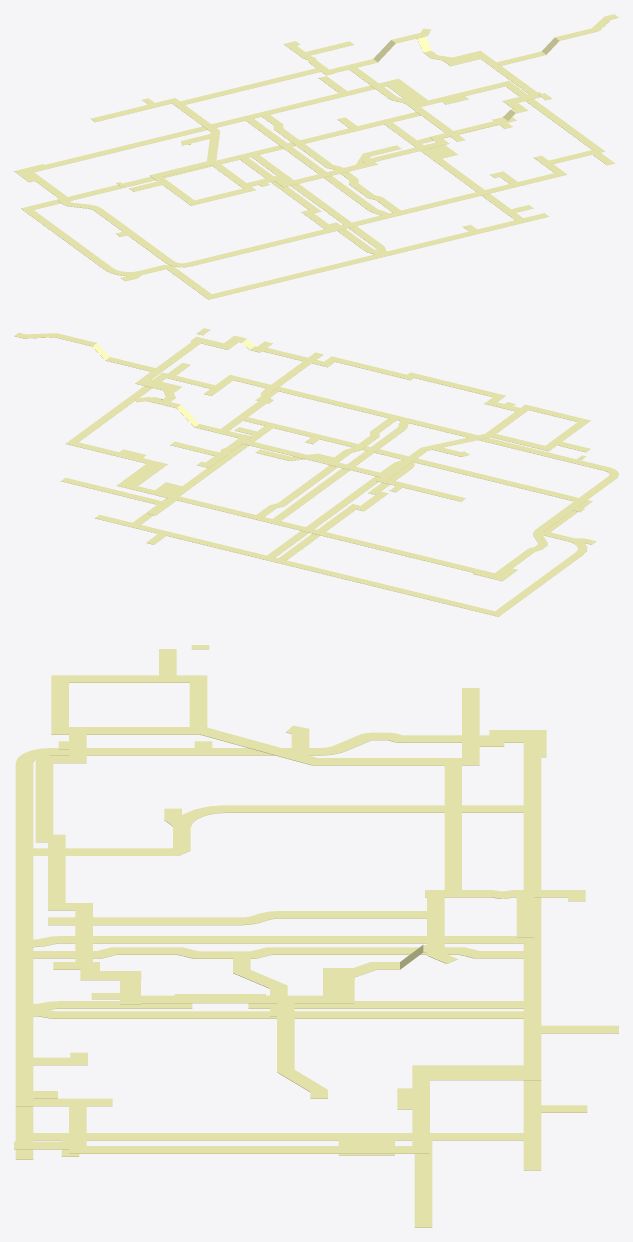
Rendered from HULDRA-PATHWAYS.gltf.
The picture shows the model from 3 angles, top to bottom: view 1: azimuth 30°, elevation 25°; view 2: azimuth 150°, elevation 25°; view 3: azimuth 270°, elevation 25°; orthographic projection. The views are drawn at different scales.
Visible parts, largest first — view 1: BOX_25_of_SUBSTRUCTURE_/ESCAPE-MEZZ/FLOOR_Mesh.45791, BOX_27_of_SUBSTRUCTURE_/ESCAPE-CELLAR/FLOOR_Mesh.45761, BOX_21_of_SUBSTRUCTURE_/ESCAPE-CELLAR/FLOOR_Mesh.45751, BOX_24_of_SUBSTRUCTURE_/ESCAPE-MEZZ/FLOOR_Mesh.45790, BOX_1_of_SUBSTRUCTURE_/ESCAPE-MEZZ/FLOOR_Mesh.45762, BOX_8_of_SUBSTRUCTURE_/ESCAPE-MEZZ/FLOOR_Mesh.45769, BOX_7_of_SUBSTRUCTURE_/ESCAPE-MEZZ/FLOOR_Mesh.45768, BOX_9_of_SUBSTRUCTURE_/ESCAPE-CELLAR/FLOOR_Mesh.45738, BOX_19_of_SUBSTRUCTURE_/ESCAPE-CELLAR/FLOOR_Mesh.45749, BOX_7_of_SUBSTRUCTURE_/ESCAPE-CELLAR/FLOOR_Mesh.45736, BOX_1_of_SUBSTRUCTURE_/ESCAPE-WEATH/FLOOR_Mesh.45807, BOX_14_of_SUBSTRUCTURE_/ESCAPE-MEZZ/FLOOR_Mesh.45775 (+11 smaller); view 2: BOX_25_of_SUBSTRUCTURE_/ESCAPE-MEZZ/FLOOR_Mesh.45791, BOX_27_of_SUBSTRUCTURE_/ESCAPE-CELLAR/FLOOR_Mesh.45761, BOX_1_of_SUBSTRUCTURE_/ESCAPE-MEZZ/FLOOR_Mesh.45762, BOX_21_of_SUBSTRUCTURE_/ESCAPE-CELLAR/FLOOR_Mesh.45751, BOX_1_of_SUBSTRUCTURE_/ESCAPE-CELLAR/FLOOR_Mesh.45730, BOX_24_of_SUBSTRUCTURE_/ESCAPE-MEZZ/FLOOR_Mesh.45790, BOX_7_of_SUBSTRUCTURE_/ESCAPE-MEZZ/FLOOR_Mesh.45768, BOX_8_of_SUBSTRUCTURE_/ESCAPE-MEZZ/FLOOR_Mesh.45769, BOX_9_of_SUBSTRUCTURE_/ESCAPE-CELLAR/FLOOR_Mesh.45738, BOX_1_of_SUBSTRUCTURE_/ESCAPE-WEATH/FLOOR_Mesh.45807, BOX_7_of_SUBSTRUCTURE_/ESCAPE-CELLAR/FLOOR_Mesh.45736, BOX_14_of_SUBSTRUCTURE_/ESCAPE-MEZZ/FLOOR_Mesh.45775 (+12 smaller); view 3: BOX_27_of_SUBSTRUCTURE_/ESCAPE-CELLAR/FLOOR_Mesh.45761, BOX_25_of_SUBSTRUCTURE_/ESCAPE-MEZZ/FLOOR_Mesh.45791, BOX_7_of_SUBSTRUCTURE_/ESCAPE-MEZZ/FLOOR_Mesh.45768, BOX_24_of_SUBSTRUCTURE_/ESCAPE-MEZZ/FLOOR_Mesh.45790, BOX_8_of_SUBSTRUCTURE_/ESCAPE-MEZZ/FLOOR_Mesh.45769, BOX_7_of_SUBSTRUCTURE_/ESCAPE-CELLAR/FLOOR_Mesh.45736, BOX_9_of_SUBSTRUCTURE_/ESCAPE-CELLAR/FLOOR_Mesh.45738, BOX_1_of_SUBSTRUCTURE_/ESCAPE-MEZZ/FLOOR_Mesh.45762, BOX_1_of_SUBSTRUCTURE_/ESCAPE-WEATH/FLOOR_Mesh.45807, BOX_22_of_SUBSTRUCTURE_/ESCAPE-CELLAR/FLOOR_Mesh.45752, BOX_4_of_SUBSTRUCTURE_/ESCAPE-MEZZ/FLOOR_Mesh.45765, BOX_20_of_SUBSTRUCTURE_/ESCAPE-MEZZ/FLOOR_Mesh.45786 (+25 smaller).
Boxes of the visible parts, box(x1,y1,x2,y2) form: BOX_25_of_SUBSTRUCTURE_/ESCAPE-MEZZ/FLOOR_Mesh.45791: box(246, 118, 376, 210); BOX_27_of_SUBSTRUCTURE_/ESCAPE-CELLAR/FLOOR_Mesh.45761: box(251, 155, 382, 247); BOX_21_of_SUBSTRUCTURE_/ESCAPE-CELLAR/FLOOR_Mesh.45751: box(250, 245, 417, 288); BOX_24_of_SUBSTRUCTURE_/ESCAPE-MEZZ/FLOOR_Mesh.45790: box(250, 207, 417, 250); BOX_1_of_SUBSTRUCTURE_/ESCAPE-MEZZ/FLOOR_Mesh.45762: box(114, 108, 281, 151); BOX_8_of_SUBSTRUCTURE_/ESCAPE-MEZZ/FLOOR_Mesh.45769: box(413, 171, 567, 210); BOX_7_of_SUBSTRUCTURE_/ESCAPE-MEZZ/FLOOR_Mesh.45768: box(501, 81, 604, 153); BOX_9_of_SUBSTRUCTURE_/ESCAPE-CELLAR/FLOOR_Mesh.45738: box(21, 206, 112, 269); BOX_19_of_SUBSTRUCTURE_/ESCAPE-CELLAR/FLOOR_Mesh.45749: box(413, 213, 548, 248); BOX_7_of_SUBSTRUCTURE_/ESCAPE-CELLAR/FLOOR_Mesh.45736: box(434, 158, 527, 222); BOX_1_of_SUBSTRUCTURE_/ESCAPE-WEATH/FLOOR_Mesh.45807: box(172, 72, 302, 106); BOX_14_of_SUBSTRUCTURE_/ESCAPE-MEZZ/FLOOR_Mesh.45775: box(94, 208, 173, 262); BOX_25_of_SUBSTRUCTURE_/ESCAPE-MEZZ/FLOOR_Mesh.45791: box(273, 428, 405, 520); BOX_27_of_SUBSTRUCTURE_/ESCAPE-CELLAR/FLOOR_Mesh.45761: box(267, 464, 396, 557); BOX_1_of_SUBSTRUCTURE_/ESCAPE-MEZZ/FLOOR_Mesh.45762: box(239, 512, 408, 555); BOX_21_of_SUBSTRUCTURE_/ESCAPE-CELLAR/FLOOR_Mesh.45751: box(377, 449, 545, 493); BOX_1_of_SUBSTRUCTURE_/ESCAPE-CELLAR/FLOOR_Mesh.45730: box(248, 552, 408, 593); BOX_24_of_SUBSTRUCTURE_/ESCAPE-MEZZ/FLOOR_Mesh.45790: box(377, 411, 545, 455); BOX_7_of_SUBSTRUCTURE_/ESCAPE-MEZZ/FLOOR_Mesh.45768: box(65, 372, 170, 445); BOX_8_of_SUBSTRUCTURE_/ESCAPE-MEZZ/FLOOR_Mesh.45769: box(225, 375, 380, 415); BOX_9_of_SUBSTRUCTURE_/ESCAPE-CELLAR/FLOOR_Mesh.45738: box(490, 552, 583, 616); BOX_1_of_SUBSTRUCTURE_/ESCAPE-WEATH/FLOOR_Mesh.45807: box(261, 444, 392, 479); BOX_7_of_SUBSTRUCTURE_/ESCAPE-CELLAR/FLOOR_Mesh.45736: box(183, 422, 277, 488); BOX_14_of_SUBSTRUCTURE_/ESCAPE-MEZZ/FLOOR_Mesh.45775: box(535, 476, 616, 531); BOX_27_of_SUBSTRUCTURE_/ESCAPE-CELLAR/FLOOR_Mesh.45761: box(59, 1011, 523, 1018); BOX_25_of_SUBSTRUCTURE_/ESCAPE-MEZZ/FLOOR_Mesh.45791: box(62, 936, 523, 943); BOX_7_of_SUBSTRUCTURE_/ESCAPE-MEZZ/FLOOR_Mesh.45768: box(69, 1146, 429, 1153); BOX_24_of_SUBSTRUCTURE_/ESCAPE-MEZZ/FLOOR_Mesh.45790: box(15, 820, 33, 968); BOX_8_of_SUBSTRUCTURE_/ESCAPE-MEZZ/FLOOR_Mesh.45769: box(15, 969, 33, 1106); BOX_7_of_SUBSTRUCTURE_/ESCAPE-CELLAR/FLOOR_Mesh.45736: box(15, 1133, 338, 1140); BOX_9_of_SUBSTRUCTURE_/ESCAPE-CELLAR/FLOOR_Mesh.45738: box(226, 805, 523, 812); BOX_1_of_SUBSTRUCTURE_/ESCAPE-MEZZ/FLOOR_Mesh.45762: box(523, 820, 541, 968); BOX_1_of_SUBSTRUCTURE_/ESCAPE-WEATH/FLOOR_Mesh.45807: box(444, 758, 461, 873); BOX_22_of_SUBSTRUCTURE_/ESCAPE-CELLAR/FLOOR_Mesh.45752: box(248, 1001, 523, 1008); BOX_4_of_SUBSTRUCTURE_/ESCAPE-MEZZ/FLOOR_Mesh.45765: box(523, 969, 541, 1065); BOX_20_of_SUBSTRUCTURE_/ESCAPE-MEZZ/FLOOR_Mesh.45786: box(430, 1065, 541, 1080).
Bounding box in the file's own units: 66.44 × 12.33 × 34.33.
